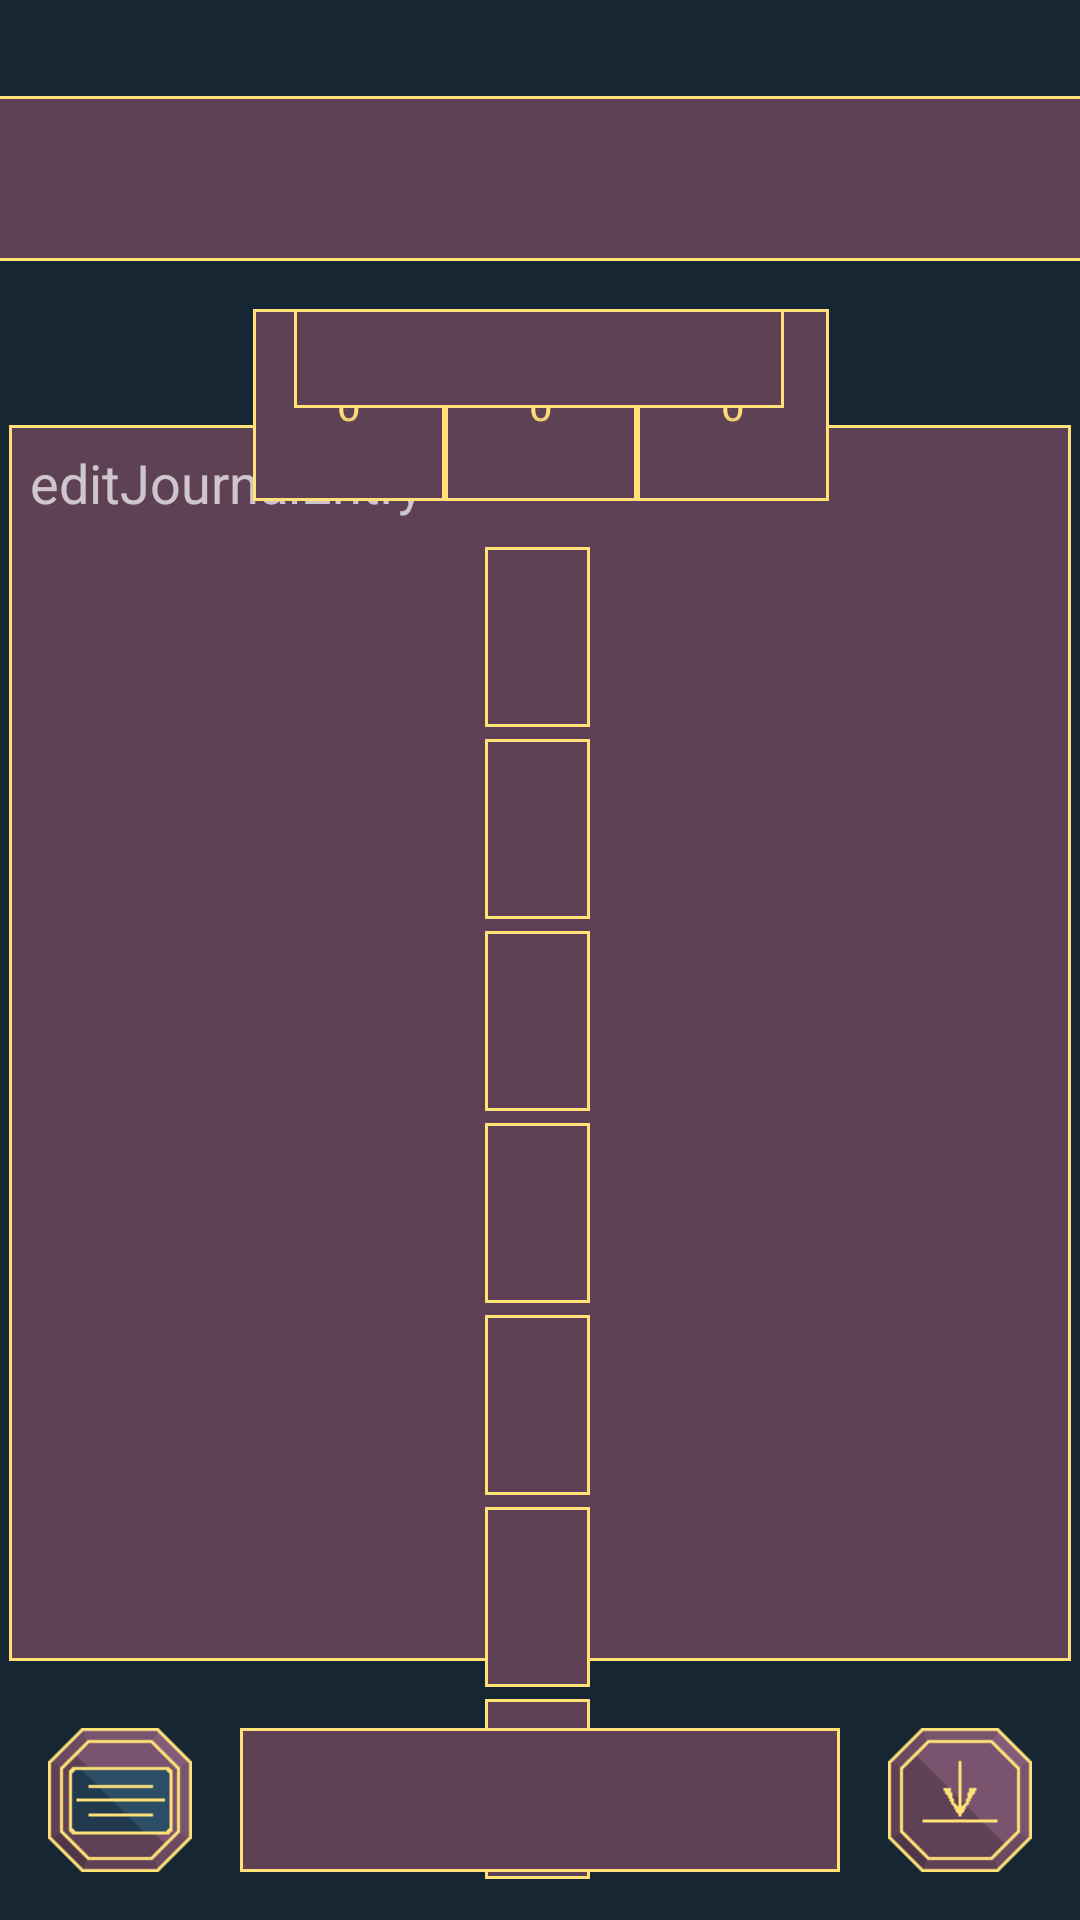

Named icons in this screenshot (1080w x 1920h) and their bounding boxes, (x1, y1, x2, y2):
save: (888, 1728, 1032, 1872)
